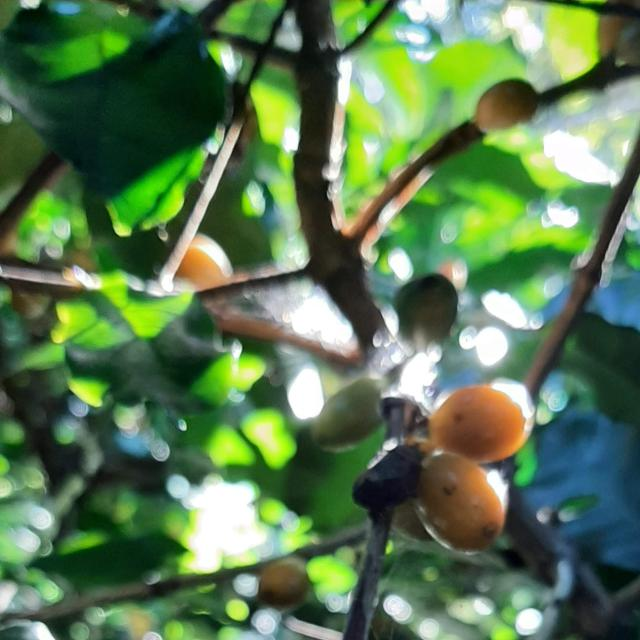red: (415, 453, 506, 552), (429, 386, 526, 463)
